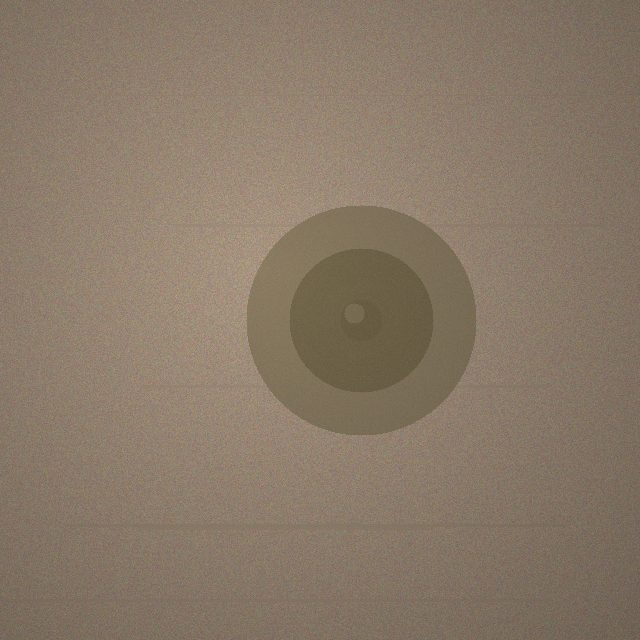good: (246, 205, 476, 435)
